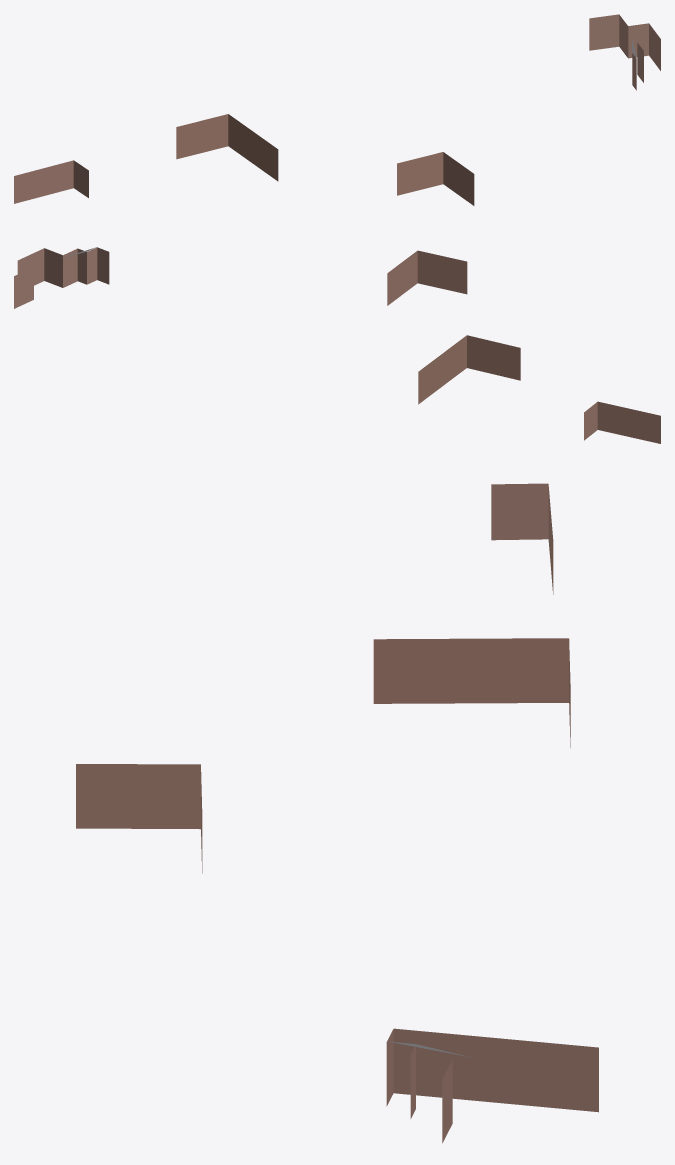
Rendered from c_1627_17834_buildings_residential.glb.
3 views of the same model, one above another, from view 1: azimuth 30°, elevation 25°; view 2: azimuth 150°, elevation 25°; view 3: azimuth 270°, elevation 25° (orthographic). The views are drawn at different scales.
Parts seen in each view (by area): view 1: geometry_0; view 2: geometry_0; view 3: geometry_0.
Boxes of the visible parts, x1,y1,x2,y2 form: geometry_0: [14, 14, 660, 205]; geometry_0: [14, 247, 660, 443]; geometry_0: [76, 483, 598, 1143].
Size of the model in its own units: 223 by 11.42 by 80.59.
